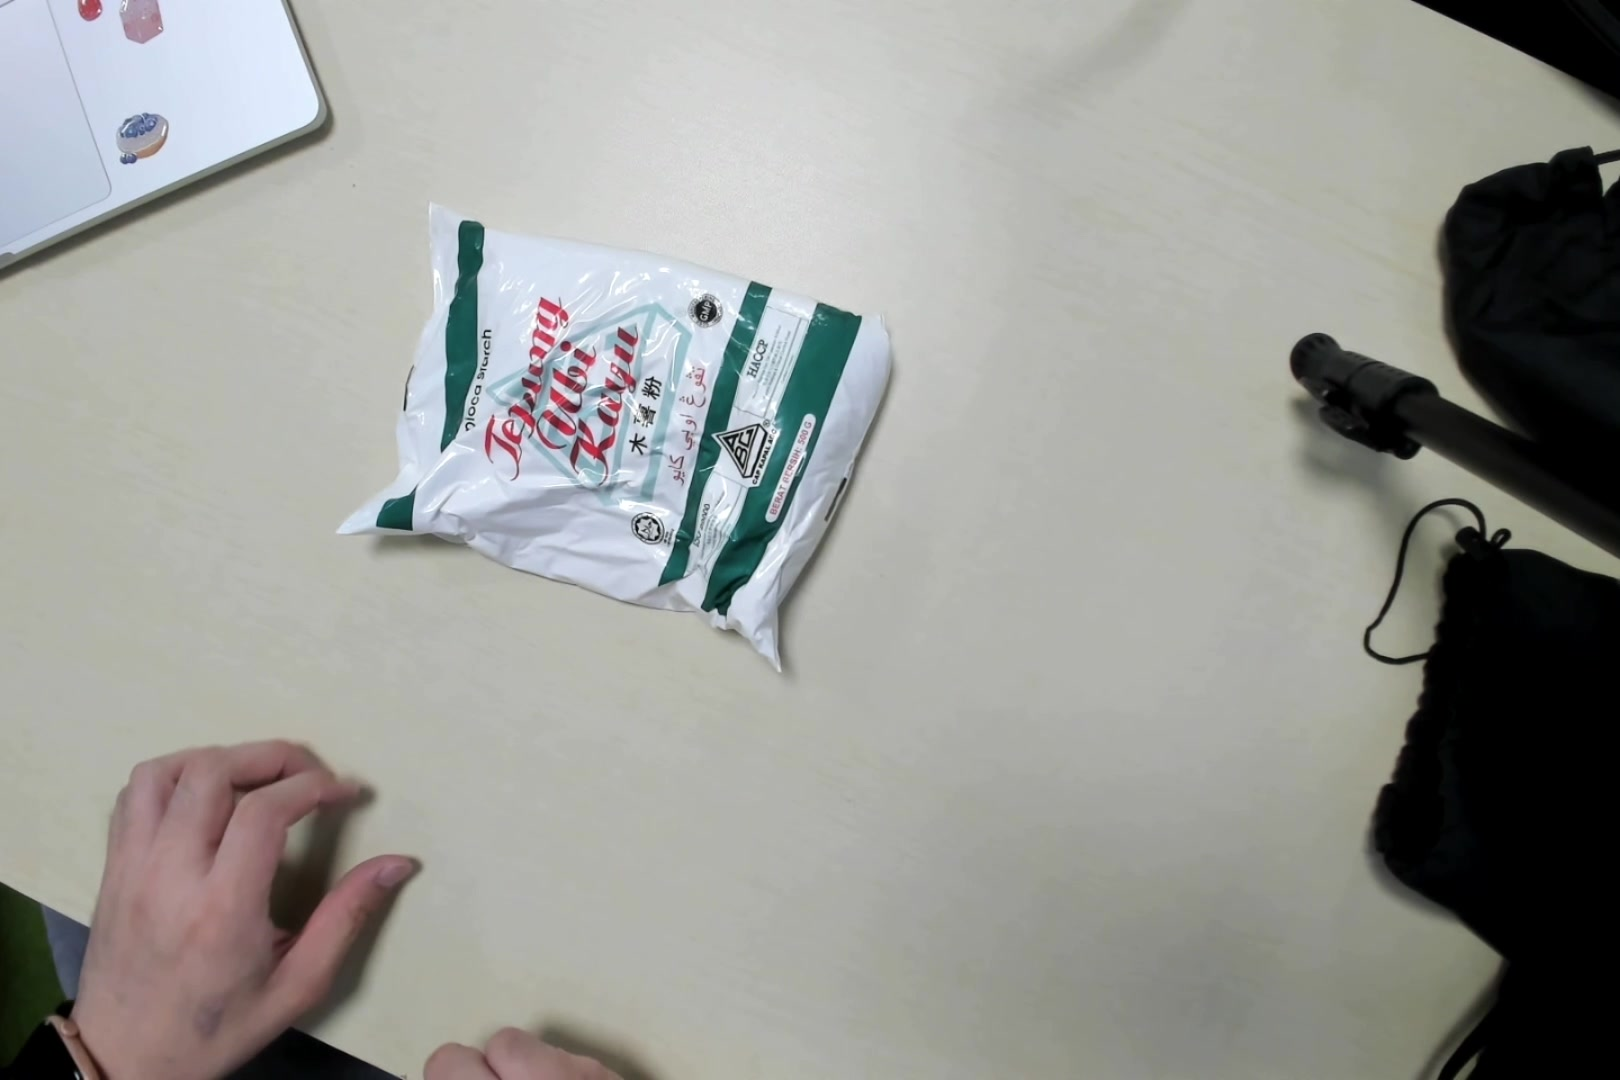Flour_500-599g_Halal_NonHealthy: (369, 216, 891, 655)
